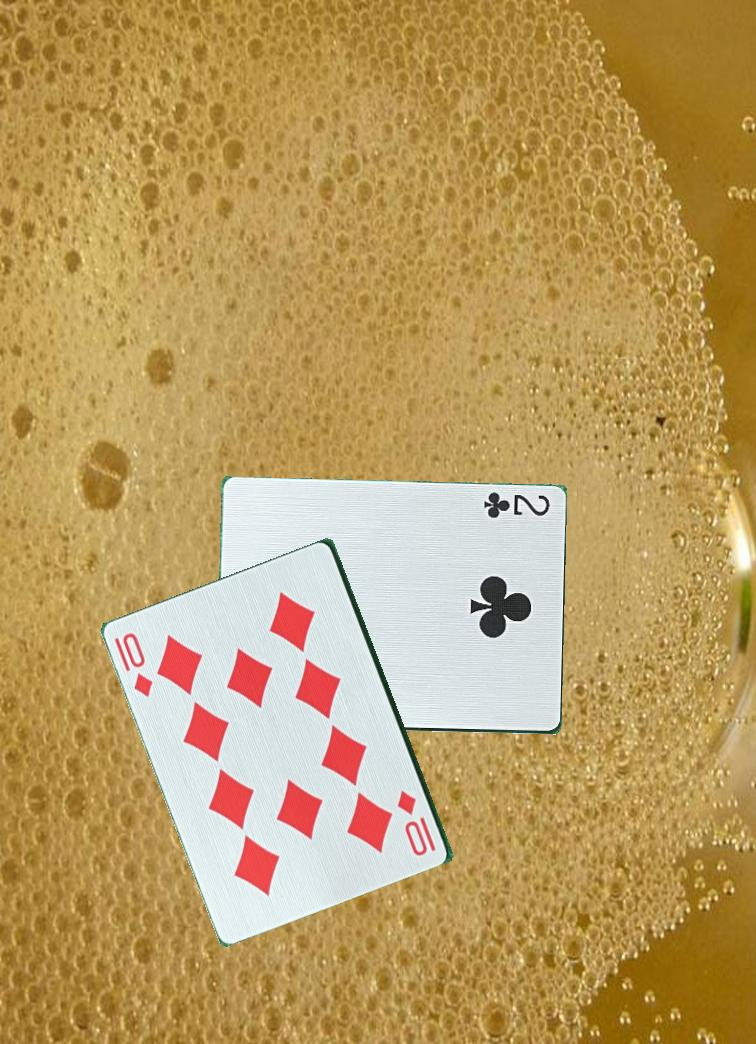2c: (479, 489, 552, 520)
td: (393, 779, 438, 854), (118, 628, 155, 700)
